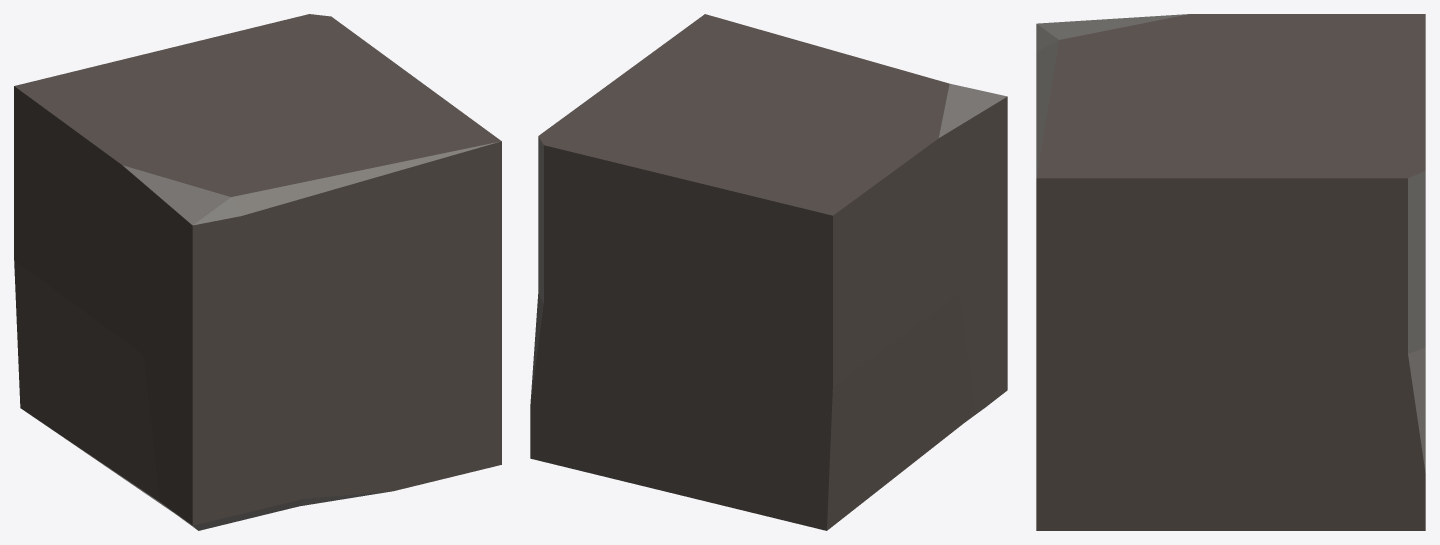
The model's file is MCastle_StoneBlock_01.FBX.
The picture shows the model from 3 angles, left to right: view 1: azimuth 30°, elevation 25°; view 2: azimuth 150°, elevation 25°; view 3: azimuth 270°, elevation 25°; orthographic projection. The views are drawn at different scales.
Visible parts, largest first — view 1: MCastle_StoneBlock_01; view 2: MCastle_StoneBlock_01; view 3: MCastle_StoneBlock_01.
Part boxes in pixels (x1,y1,x2,y2): MCastle_StoneBlock_01: (14, 14, 501, 530); MCastle_StoneBlock_01: (530, 14, 1007, 530); MCastle_StoneBlock_01: (1036, 14, 1425, 530).
Size of the model in its own units: 2 by 2 by 2.
